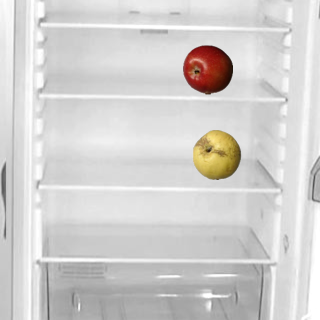Apple Braeburn: (182, 44, 232, 94)
Apple Golden 1: (191, 129, 241, 179)
